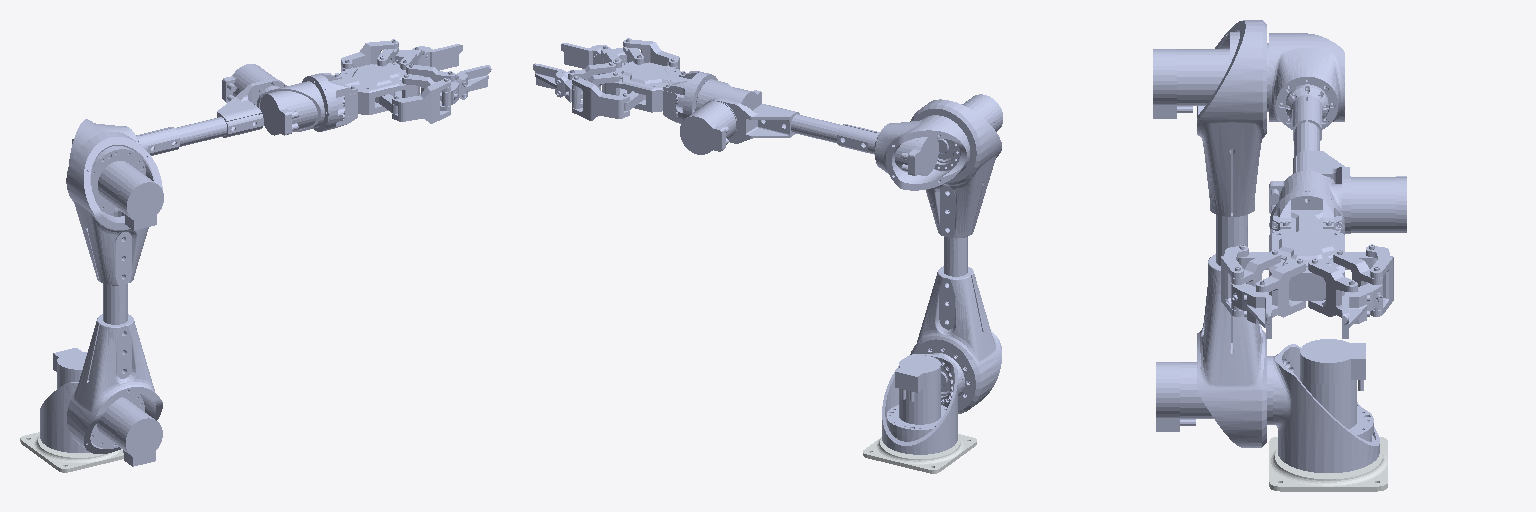
The robot description file, URDF, robot "ASY, ROBOTIC ARM 2024, URDF":
<?xml version="1.0" encoding="utf-8"?>
<!-- This URDF was automatically created by SolidWorks to URDF Exporter! Originally created by [author] ([email redacted]) 
     Commit Version: 1.6.0-4-g7f85cfe  Build Version: 1.6.7995.38578
     For more information, please see http://wiki.ros.org/sw_urdf_exporter -->
<robot
  name="ASY, ROBOTIC ARM 2024, URDF">
  <link
    name="base_link">
    <inertial>
      <origin
        xyz="-4.9276E-17 0.0044613 -3.3732E-18"
        rpy="0 0 0" />
      <mass
        value="0.21974" />
      <inertia
        ixx="0.00022426"
        ixy="-1.0851E-20"
        ixz="1.6857E-20"
        iyy="0.00044509"
        iyz="4.8961E-22"
        izz="0.00022426" />
    </inertial>
    <visual>
      <origin
        xyz="0 0 0"
        rpy="0 0 0" />
      <geometry>
        <mesh
          filename="package://uvicarm2024/meshes/base_link.STL" />
      </geometry>
      <material
        name="">
        <color
          rgba="0.89804 0.91765 0.92941 1" />
      </material>
    </visual>
    <collision>
      <origin
        xyz="0 0 0"
        rpy="0 0 0" />
      <geometry>
        <mesh
          filename="package://uvicarm2024/meshes/base_link.STL" />
      </geometry>
    </collision>
  </link>
  <link
    name="link1">
    <inertial>
      <origin
        xyz="2.3204E-07 0.046448 0.0034623"
        rpy="0 0 0" />
      <mass
        value="0.32157" />
      <inertia
        ixx="0.00032758"
        ixy="-7.8012E-10"
        ixz="5.8805E-10"
        iyy="0.00032083"
        iyz="-3.6414E-05"
        izz="0.00033922" />
    </inertial>
    <visual>
      <origin
        xyz="0 0 0"
        rpy="0 0 0" />
      <geometry>
        <mesh
          filename="package://uvicarm2024/meshes/link1.STL" />
      </geometry>
      <material
        name="">
        <color
          rgba="0.79216 0.81961 0.93333 1" />
      </material>
    </visual>
    <collision>
      <origin
        xyz="0 0 0"
        rpy="0 0 0" />
      <geometry>
        <mesh
          filename="package://uvicarm2024/meshes/link1.STL" />
      </geometry>
    </collision>
  </link>
  <joint
    name="joint0"
    type="continuous">
    <origin
      xyz="0 0 0.007"
      rpy="1.5708 0 0" />
    <parent
      link="base_link" />
    <child
      link="link1" />
    <axis
      xyz="0 1 0" />
    <limit
      effort="50"
      velocity="1" />
  </joint>
  <link
    name="link2">
    <inertial>
      <origin
        xyz="0.16281 5.87E-07 0.042378"
        rpy="0 0 0" />
      <mass
        value="1.1397" />
      <inertia
        ixx="0.001115"
        ixy="-1.1442E-08"
        ixz="7.7228E-06"
        iyy="0.0019366"
        iyz="-2.5714E-08"
        izz="0.0022512" />
    </inertial>
    <visual>
      <origin
        xyz="0 0 0"
        rpy="0 0 0" />
      <geometry>
        <mesh
          filename="package://uvicarm2024/meshes/link2.STL" />
      </geometry>
      <material
        name="">
        <color
          rgba="0.79216 0.81961 0.93333 1" />
      </material>
    </visual>
    <collision>
      <origin
        xyz="0 0 0"
        rpy="0 0 0" />
      <geometry>
        <mesh
          filename="package://uvicarm2024/meshes/link2.STL" />
      </geometry>
    </collision>
  </link>
  <joint
    name="joint1"
    type="revolute">
    <origin
      xyz="0 0.0705 0.049"
      rpy="0 0 1.5708" />
    <parent
      link="link1" />
    <child
      link="link2" />
    <axis
      xyz="0 0 1" />
    <limit
      lower="0"
      upper="3.14"
      effort="50"
      velocity="1" />
  </joint>
  <link
    name="link3">
    <inertial>
      <origin
        xyz="3.3228E-07 0.025566 -0.021889"
        rpy="0 0 0" />
      <mass
        value="0.24583" />
      <inertia
        ixx="0.00017178"
        ixy="-2.1704E-09"
        ixz="-6.941E-10"
        iyy="0.00020712"
        iyz="2.6575E-05"
        izz="0.00018355" />
    </inertial>
    <visual>
      <origin
        xyz="0 0 0"
        rpy="0 0 0" />
      <geometry>
        <mesh
          filename="package://uvicarm2024/meshes/link3.STL" />
      </geometry>
      <material
        name="">
        <color
          rgba="0.79216 0.81961 0.93333 1" />
      </material>
    </visual>
    <collision>
      <origin
        xyz="0 0 0"
        rpy="0 0 0" />
      <geometry>
        <mesh
          filename="package://uvicarm2024/meshes/link3.STL" />
      </geometry>
    </collision>
  </link>
  <joint
    name="joint2"
    type="continuous">
    <origin
      xyz="0.32 0 0"
      rpy="-1.5708 0 0" />
    <parent
      link="link2" />
    <child
      link="link3" />
    <axis
      xyz="0 1 0" />
    <limit
      effort="50"
      velocity="1" />
  </joint>
  <link
    name="link4">
    <inertial>
      <origin
        xyz="0.0471 -9.4291E-06 0.18908"
        rpy="0 0 0" />
      <mass
        value="0.18633" />
      <inertia
        ixx="0.0001082"
        ixy="-5.3053E-08"
        ixz="-1.1032E-05"
        iyy="0.00010897"
        iyz="-3.7845E-08"
        izz="5.8446E-05" />
    </inertial>
    <visual>
      <origin
        xyz="0 0 0"
        rpy="0 0 0" />
      <geometry>
        <mesh
          filename="package://uvicarm2024/meshes/link4.STL" />
      </geometry>
      <material
        name="">
        <color
          rgba="0.79216 0.81961 0.93333 1" />
      </material>
    </visual>
    <collision>
      <origin
        xyz="0 0 0"
        rpy="0 0 0" />
      <geometry>
        <mesh
          filename="package://uvicarm2024/meshes/link4.STL" />
      </geometry>
    </collision>
  </link>
  <joint
    name="joint3"
    type="continuous">
    <origin
      xyz="0 0.029 -0.0575"
      rpy="-3.1416 0 1.5708" />
    <parent
      link="link3" />
    <child
      link="link4" />
    <axis
      xyz="0 0 1" />
    <limit
      effort="10"
      velocity="1" />
  </joint>
  <link
    name="link5">
    <inertial>
      <origin
        xyz="6.7608E-07 -0.00103 -0.0094618"
        rpy="0 0 0" />
      <mass
        value="0.14869" />
      <inertia
        ixx="5.6669E-05"
        ixy="-1.9664E-09"
        ixz="3.2886E-09"
        iyy="5.4601E-05"
        iyz="4.6671E-06"
        izz="5.8844E-05" />
    </inertial>
    <visual>
      <origin
        xyz="0 0 0"
        rpy="0 0 0" />
      <geometry>
        <mesh
          filename="package://uvicarm2024/meshes/link5.STL" />
      </geometry>
      <material
        name="">
        <color
          rgba="0.79216 0.81961 0.93333 1" />
      </material>
    </visual>
    <collision>
      <origin
        xyz="0 0 0"
        rpy="0 0 0" />
      <geometry>
        <mesh
          filename="package://uvicarm2024/meshes/link5.STL" />
      </geometry>
    </collision>
  </link>
  <joint
    name="joint4"
    type="continuous">
    <origin
      xyz="0 0 0.222"
      rpy="3.1416 0 -1.5708" />
    <parent
      link="link4" />
    <child
      link="link5" />
    <axis
      xyz="0 1 0" />
    <limit
      effort="10"
      velocity="1" />
  </joint>
  <link
    name="end_effector">
    <inertial>
      <origin
        xyz="-9.4522E-05 7.9004E-05 0.098273"
        rpy="0 0 0" />
      <mass
        value="0.40215" />
      <inertia
        ixx="0.00027994"
        ixy="-2.8409E-08"
        ixz="-1.2519E-08"
        iyy="0.00031653"
        iyz="-3.8933E-06"
        izz="0.00014656" />
    </inertial>
    <visual>
      <origin
        xyz="0 0 0"
        rpy="0 0 0" />
      <geometry>
        <mesh
          filename="package://uvicarm2024/meshes/end_effector.STL" />
      </geometry>
      <material
        name="">
        <color
          rgba="0.79216 0.81961 0.93333 1" />
      </material>
    </visual>
    <collision>
      <origin
        xyz="0 0 0"
        rpy="0 0 0" />
      <geometry>
        <mesh
          filename="package://uvicarm2024/meshes/end_effector.STL" />
      </geometry>
    </collision>
  </link>
  <joint
    name="end_effector_joint"
    type="continuous">
    <origin
      xyz="0 0 -0.0385"
      rpy="3.1416 0 -1.5708" />
    <parent
      link="link5" />
    <child
      link="end_effector" />
    <axis
      xyz="0 0 1" />
    <limit
      effort="10"
      velocity="1" />
  </joint>
</robot>

--- What the picture shows (computed from the rendered views, not written in the file) ---
The picture shows the robot from 3 angles, left to right: view 1: azimuth 30°, elevation 25°; view 2: azimuth 150°, elevation 25°; view 3: azimuth 270°, elevation 25°; orthographic projection.
Robot: ASY, ROBOTIC ARM 2024, URDF — 7 links, 6 joints (1 revolute, 5 continuous); root link base_link; default pose: all joints at 0.
Visible links, largest first — view 1: link2, end_effector, link4, link1, link5, base_link, link3; view 2: link2, end_effector, link1, link4, link3, base_link, link5; view 3: link2, end_effector, link1, link4, link3, base_link, link5.
Boxes of the visible links, <box> form: link2: <box>66,132,163,466</box>; end_effector: <box>302,39,491,131</box>; link4: <box>136,64,286,155</box>; link1: <box>40,348,90,452</box>; link5: <box>257,81,324,135</box>; base_link: <box>20,432,123,472</box>; link3: <box>69,119,138,163</box>; link2: <box>910,94,1002,413</box>; end_effector: <box>533,38,717,123</box>; link1: <box>882,354,962,454</box>; link4: <box>680,98,879,154</box>; link3: <box>875,115,969,190</box>; base_link: <box>863,434,976,473</box>; link5: <box>695,79,761,110</box>; link2: <box>1153,20,1272,447</box>; end_effector: <box>1221,190,1393,338</box>; link1: <box>1273,339,1379,472</box>; link4: <box>1286,84,1406,233</box>; link3: <box>1269,33,1344,129</box>; base_link: <box>1269,437,1387,491</box>; link5: <box>1269,171,1341,213</box>.
Size in the robot's own frame: 0.6048 by 0.2356 by 0.4505 metres.
7 mesh visuals loaded from 7 distinct referenced files (7 binary STL).